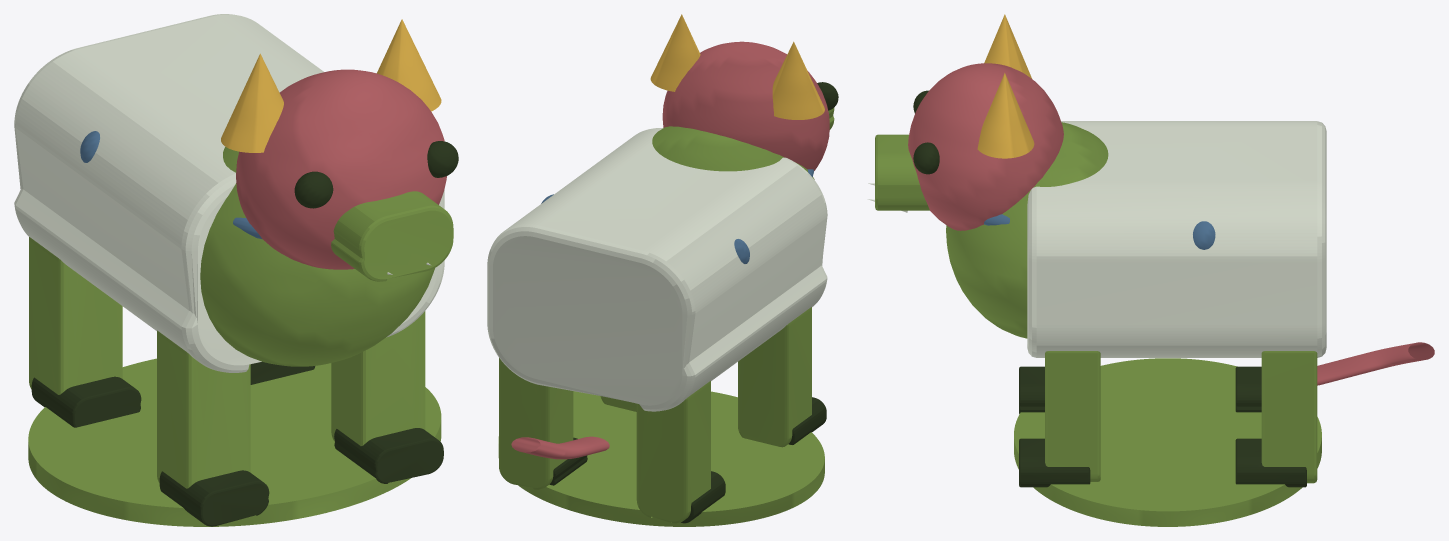
Rendered from 0846_两栖动物图鉴_达尔文蛙.glb.
3 renders of one model, left to right at view 1: azimuth 30°, elevation 25°; view 2: azimuth 150°, elevation 25°; view 3: azimuth 270°, elevation 25°, orthographic. The views are drawn at different scales.
Visible parts, largest first — view 1: card_0846; view 2: card_0846; view 3: card_0846.
Part boxes in pixels (x1,y1,x2,y2): card_0846: (14,14,458,526); card_0846: (487,14,838,526); card_0846: (867,14,1434,526).
Bounding box in the file's own units: 0.8066 × 1 × 1.26.
